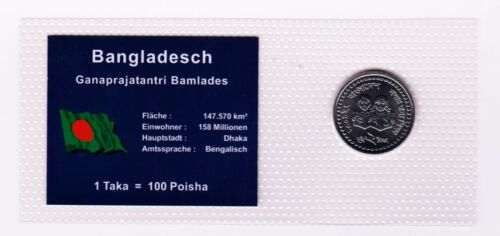5 taka coin: (332, 73, 416, 154)
